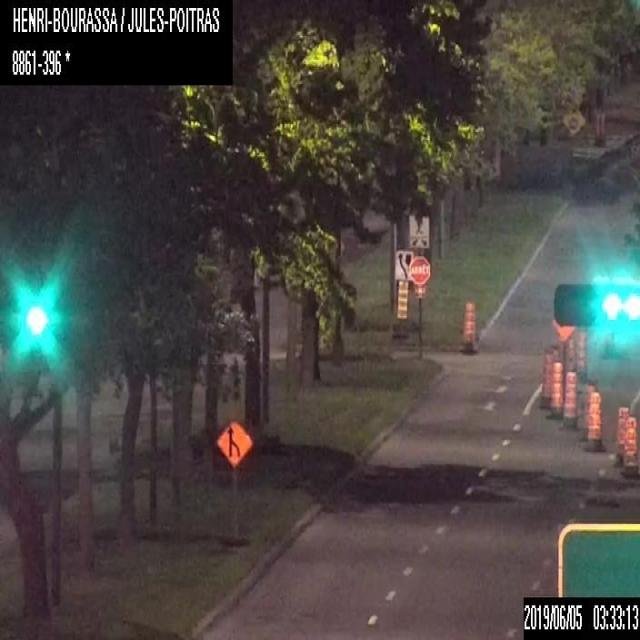construction: (214, 418, 252, 545), (558, 370, 579, 428), (586, 391, 604, 453), (621, 416, 639, 477), (546, 361, 564, 420), (614, 405, 629, 468), (540, 353, 555, 413), (580, 382, 595, 439), (462, 299, 475, 354), (576, 329, 588, 379), (551, 316, 574, 339), (566, 336, 576, 372)
